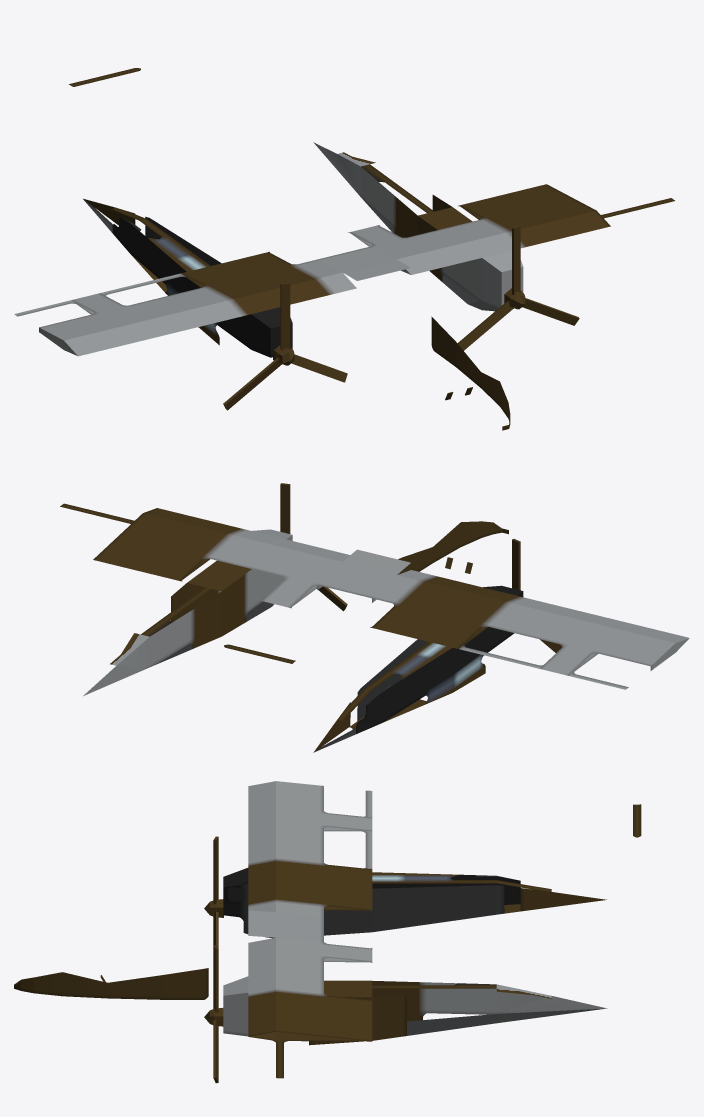
The model's file is bronco-plane.obj.
3 views of the same model, one above another, from view 1: azimuth 30°, elevation 25°; view 2: azimuth 150°, elevation 25°; view 3: azimuth 270°, elevation 25° (orthographic). The views are drawn at different scales.
Visible parts, largest first — view 1: wing1, wing0, engine0, engine1, body, blade1, blade0; view 2: wing1, wing0, engine0, engine1, body, blade0, surface1, blade1; view 3: wing1, engine0, engine1, wing0, body, blade0, surface1, blade1.
Boxes of the visible parts, box(x1,y1,x2,y2) form: wing1: box(39, 251, 356, 356); wing0: box(348, 189, 674, 274); engine0: box(313, 142, 523, 311); engine1: box(83, 198, 292, 357); body: box(273, 246, 525, 430); blade1: box(223, 282, 347, 410); blade0: box(457, 225, 579, 350); wing1: box(370, 570, 689, 670); wing0: box(60, 503, 350, 608); engine0: box(83, 529, 292, 695); engine1: box(313, 585, 523, 752); body: box(317, 521, 508, 598); blade0: box(280, 483, 347, 611); surface1: box(524, 657, 628, 689); blade1: box(512, 539, 562, 652); wing1: box(248, 781, 372, 916); engine0: box(223, 976, 607, 1045); engine1: box(223, 868, 606, 938); wing0: box(248, 937, 372, 1078); body: box(14, 899, 324, 1026); blade0: box(213, 945, 218, 1083); surface1: box(347, 790, 372, 838); blade1: box(213, 836, 218, 948).
Bounding box in the file's own units: 14.83 × 4.82 × 14.72.
